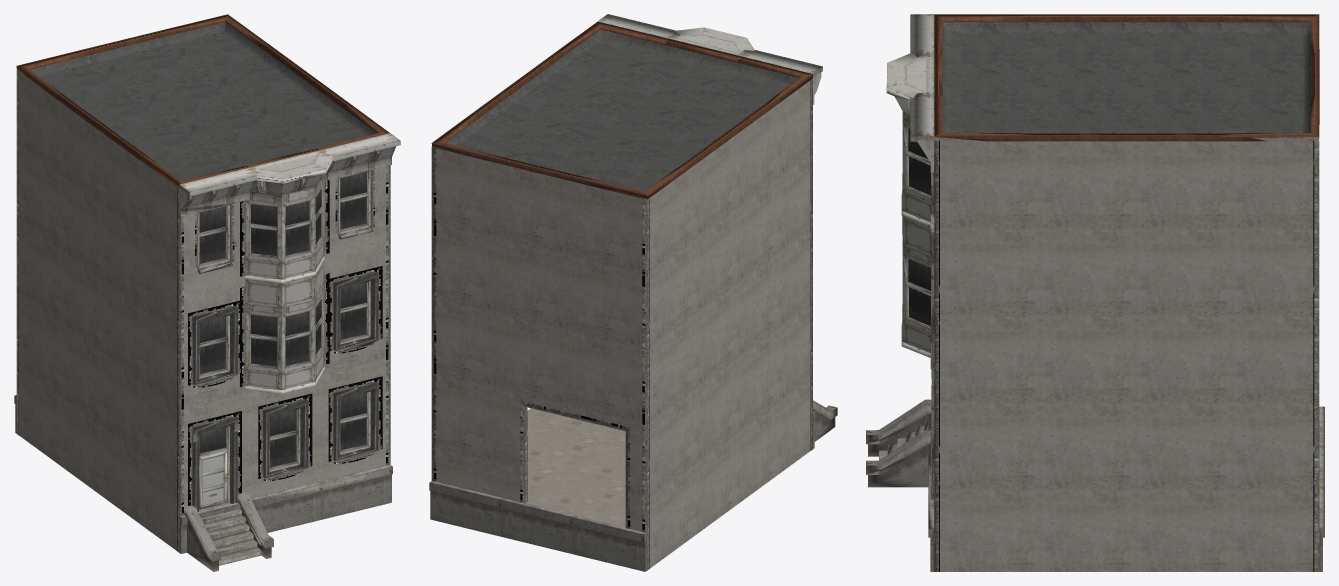
File: rowhouse_3st_9x12-blue variant.glb
3 renders of one model, left to right at view 1: azimuth 30°, elevation 25°; view 2: azimuth 150°, elevation 25°; view 3: azimuth 270°, elevation 25°, orthographic. The views are drawn at different scales.
Parts seen in each view (by area): view 1: rowhouse_3st_9x12_LOD0; view 2: rowhouse_3st_9x12_LOD0; view 3: rowhouse_3st_9x12_LOD0.
Boxes of the visible parts, x1,y1,x2,y2 form: rowhouse_3st_9x12_LOD0: (14,14,400,571); rowhouse_3st_9x12_LOD0: (429,14,837,571); rowhouse_3st_9x12_LOD0: (866,14,1324,571).
Size of the model in its own units: 9.04 by 15.02 by 14.32.
Materials: 7 (7 with a texture image).
